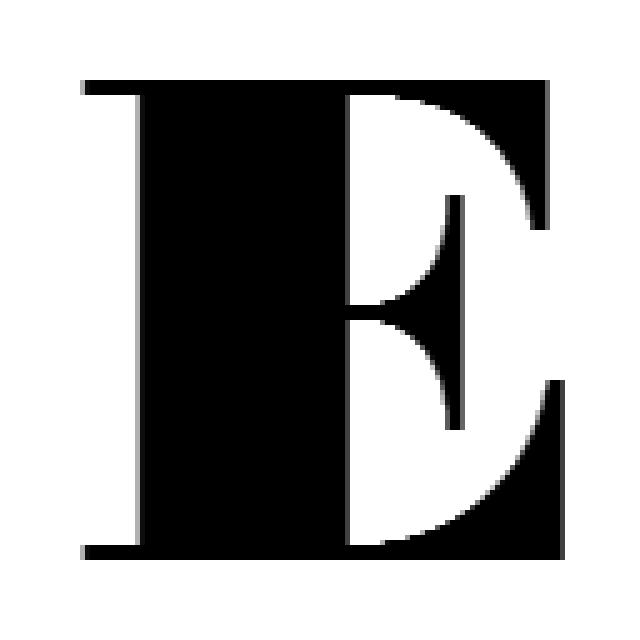E: (85, 80, 560, 560)
